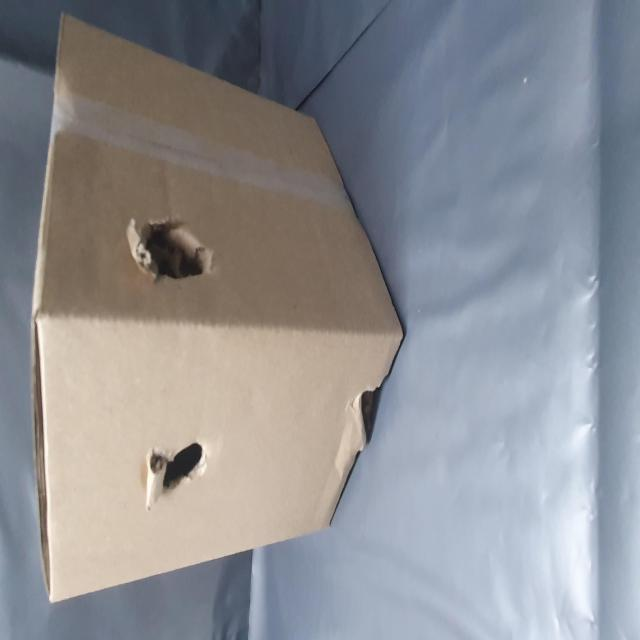damaged: (192, 215, 247, 402), (74, 255, 126, 388), (99, 605, 155, 640)
